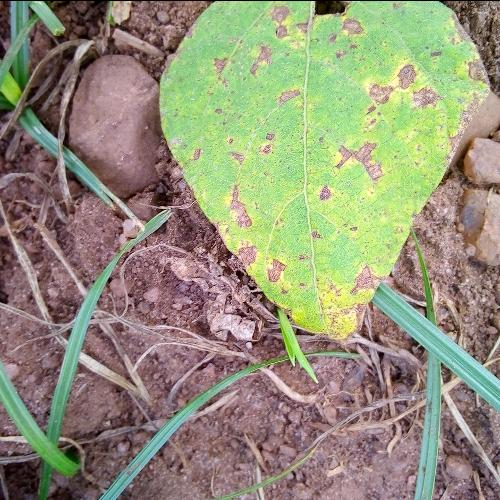mozaik: (225, 39, 454, 344)
